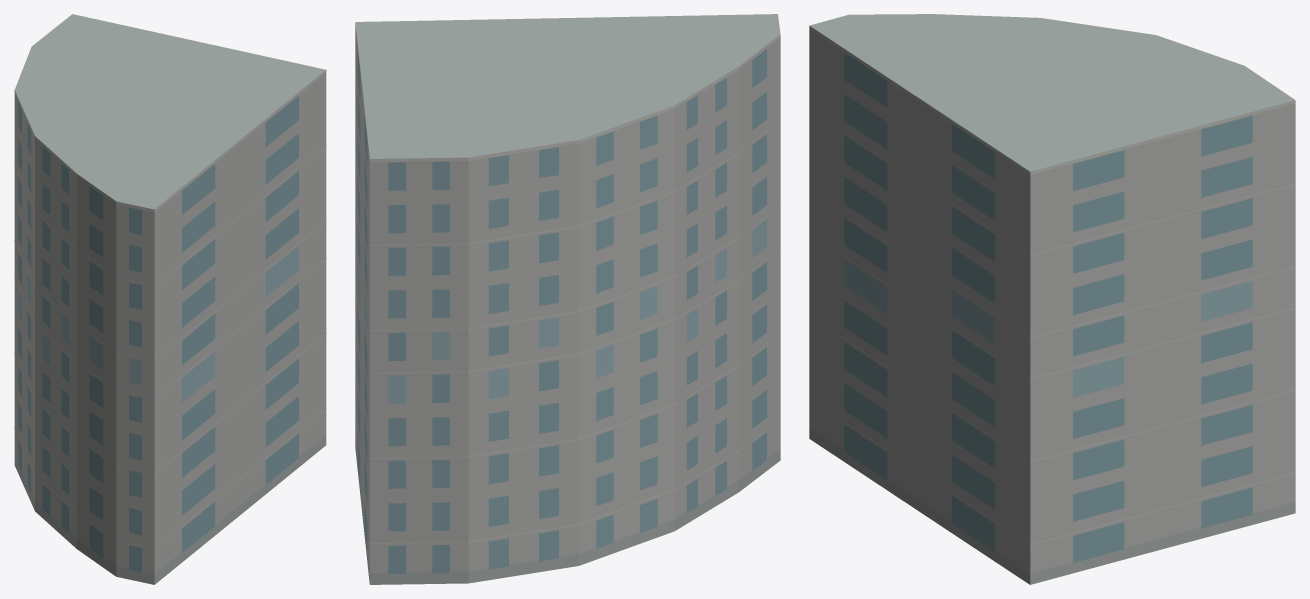
File: residential-8b724364-0a61-4846-a7aa-c06706756479.glb
3 renders of one model, left to right at view 1: azimuth 30°, elevation 25°; view 2: azimuth 150°, elevation 25°; view 3: azimuth 270°, elevation 25°, orthographic. The views are drawn at different scales.
Visible parts, largest first — view 1: residential-8b724364-0a61-4846-a7aa-c06706756479.tmp; view 2: residential-8b724364-0a61-4846-a7aa-c06706756479.tmp; view 3: residential-8b724364-0a61-4846-a7aa-c06706756479.tmp.
Boxes of the visible parts, x1,y1,x2,y2 form: residential-8b724364-0a61-4846-a7aa-c06706756479.tmp: (14, 14, 326, 584); residential-8b724364-0a61-4846-a7aa-c06706756479.tmp: (355, 14, 780, 584); residential-8b724364-0a61-4846-a7aa-c06706756479.tmp: (809, 14, 1295, 584).
Size of the model in its own units: 24.99 by 30.5 by 32.55.
